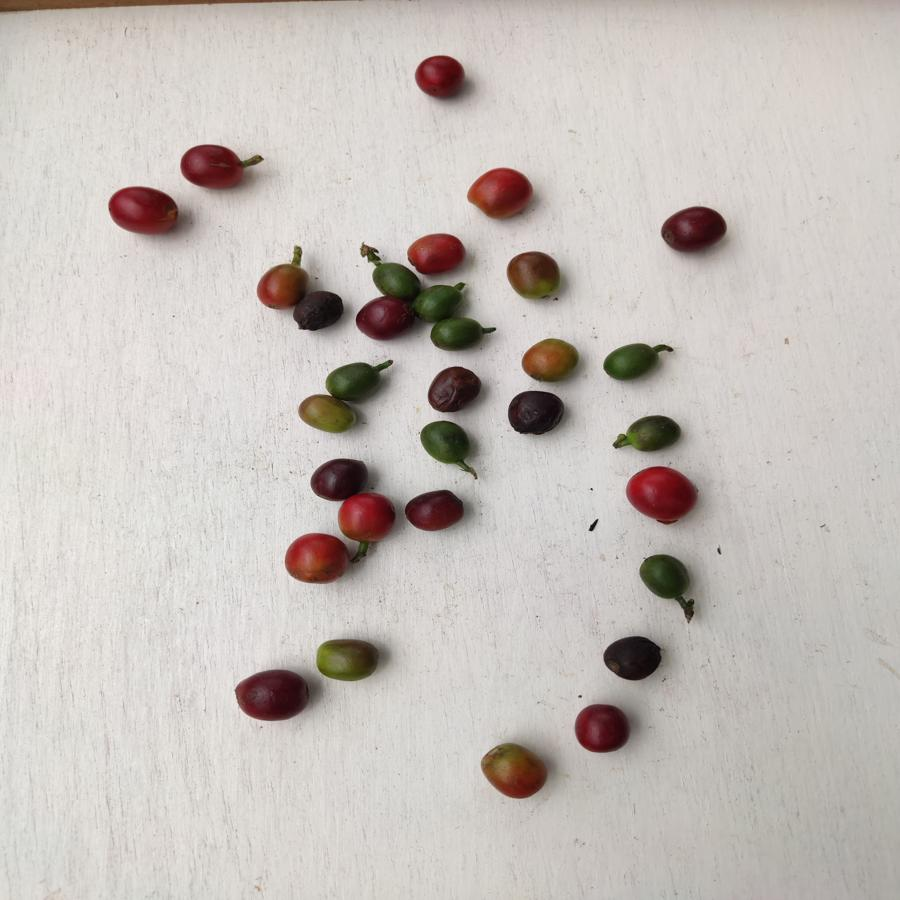Inmaduro: (638, 550, 694, 601), (418, 420, 473, 469), (621, 413, 684, 453), (430, 316, 489, 353), (324, 362, 383, 399), (603, 343, 660, 381), (413, 283, 467, 320), (372, 261, 421, 297)
Maduro: (622, 466, 701, 523), (109, 187, 183, 239), (464, 167, 533, 219), (283, 533, 351, 585), (174, 145, 249, 188), (339, 493, 399, 543), (415, 54, 469, 101), (408, 233, 467, 276)
Pinton: (478, 741, 549, 800), (315, 634, 378, 685), (505, 250, 569, 299), (517, 337, 584, 383), (254, 257, 304, 313), (297, 396, 365, 435)
Sobremaduro: (234, 668, 309, 725), (659, 202, 730, 258), (571, 702, 635, 756), (502, 388, 567, 435), (403, 489, 467, 533), (605, 636, 663, 683), (353, 298, 415, 338), (428, 368, 484, 412), (307, 458, 372, 495), (293, 292, 346, 334)
